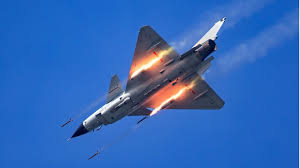fighter: (62, 14, 229, 145)
